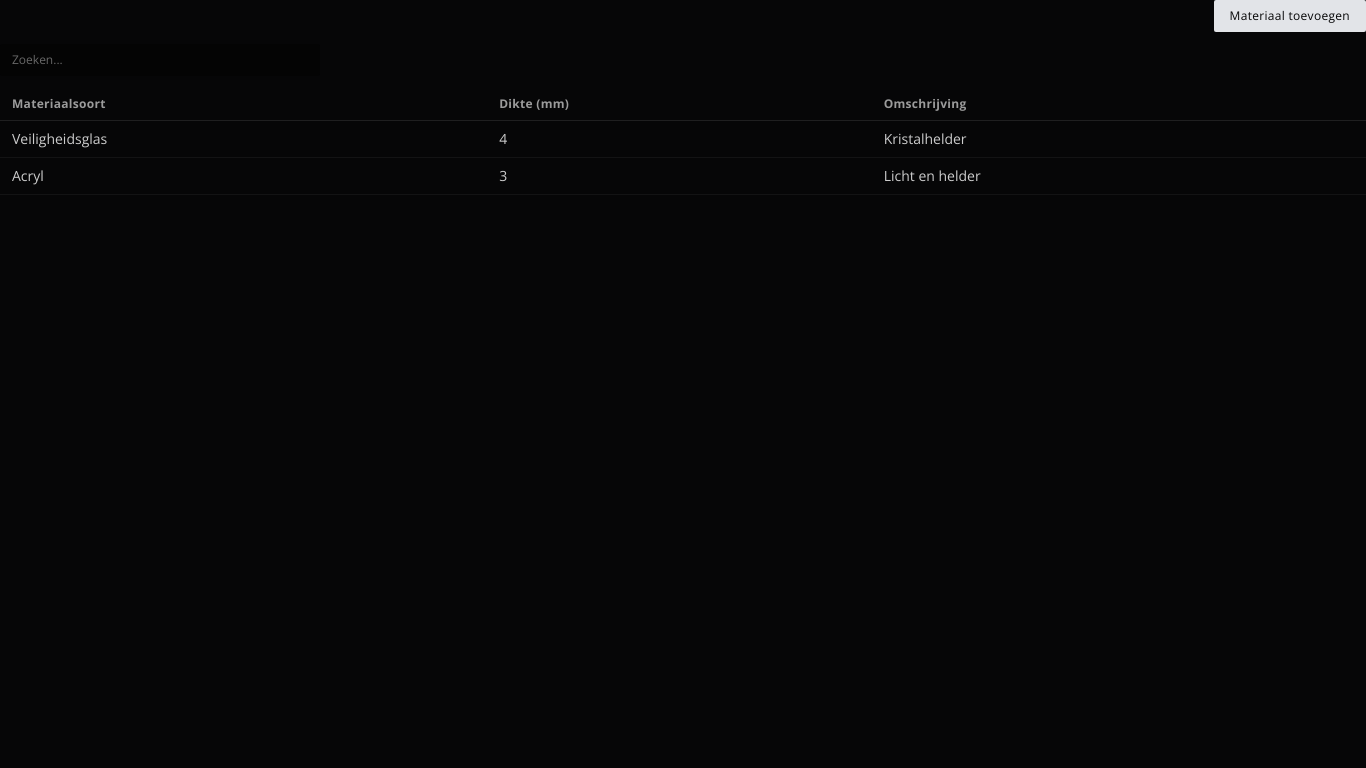
Test: MaterialenSection › blocks deleting a materiaal that is still referenced by a kunstwerk
The image size is (1366, 768).
Click the row with test id "data-table-row-mat-1" at (683, 139), box [0,120,1365,158]
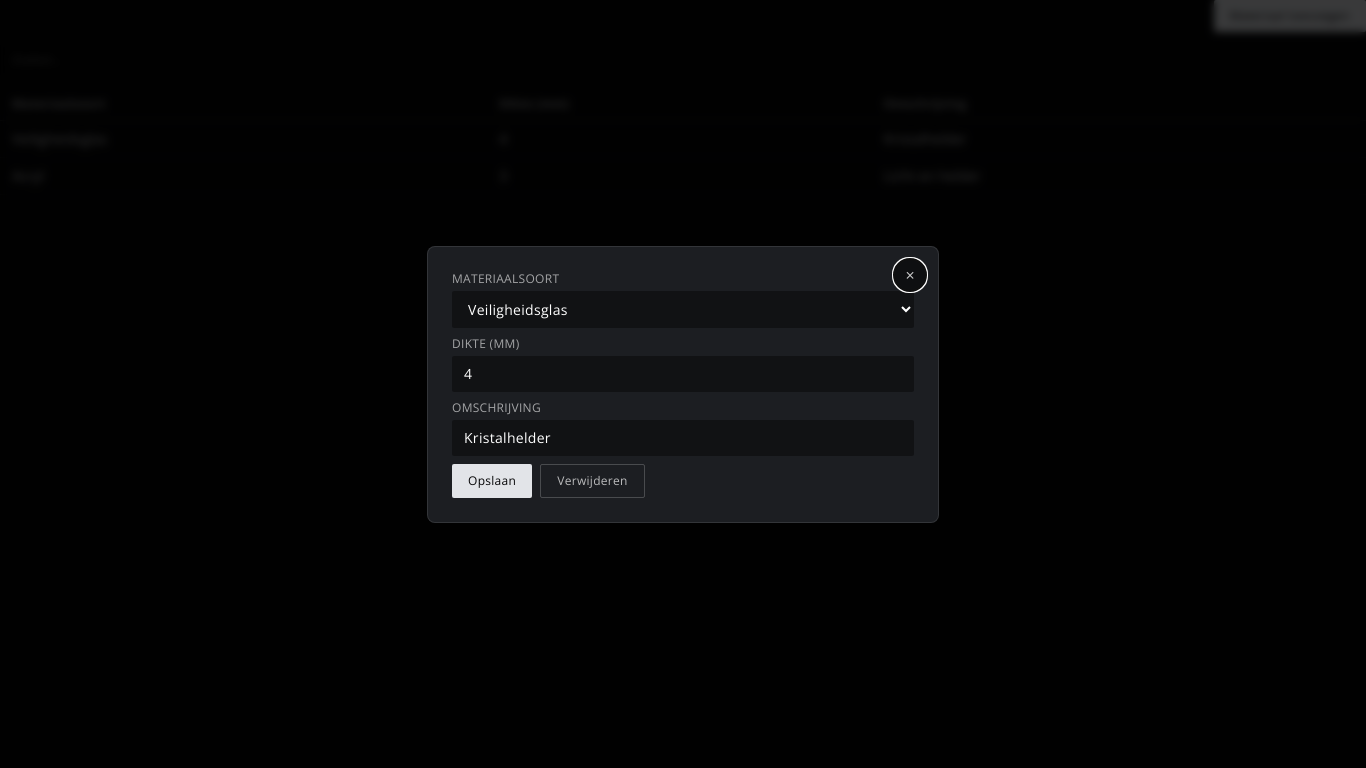
Click the button with test id "materiaal-modal-verwijderen" at (592, 480), box [540,464,645,498]
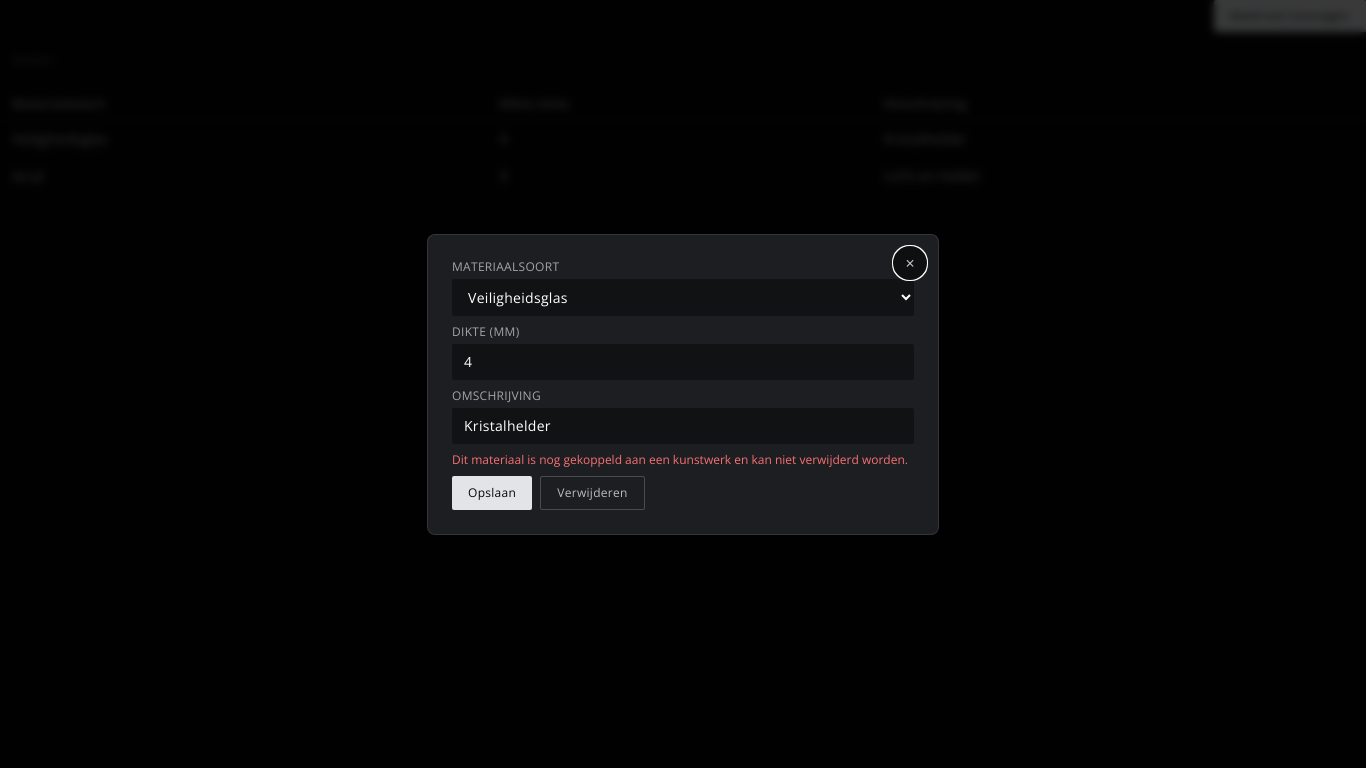
Expected: the text with test id "materiaal-modal-error" reads "Dit materiaal is nog gekoppeld aan een kunstwerk en kan niet verwijderd worden.", [452,450,908,468]
